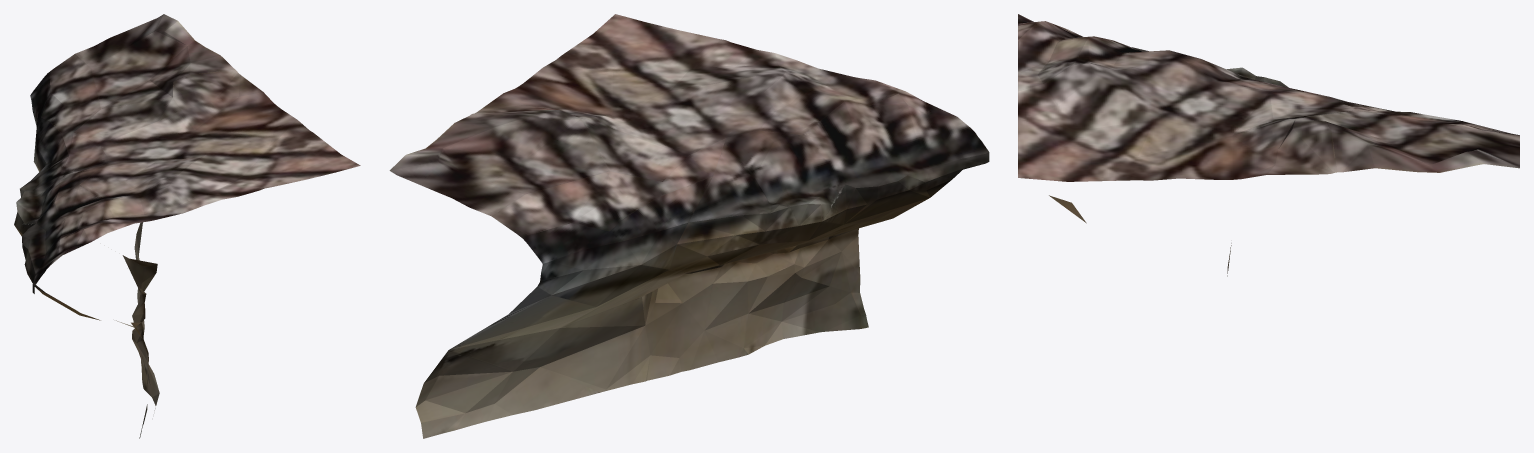
3 renders of one model, left to right at view 1: azimuth 30°, elevation 25°; view 2: azimuth 150°, elevation 25°; view 3: azimuth 270°, elevation 25°, orthographic. The views are drawn at different scales.
Bounding box in the file's own units: 1.6 × 1.09 × 1.67.
Materials: 3 (3 with a texture image).
